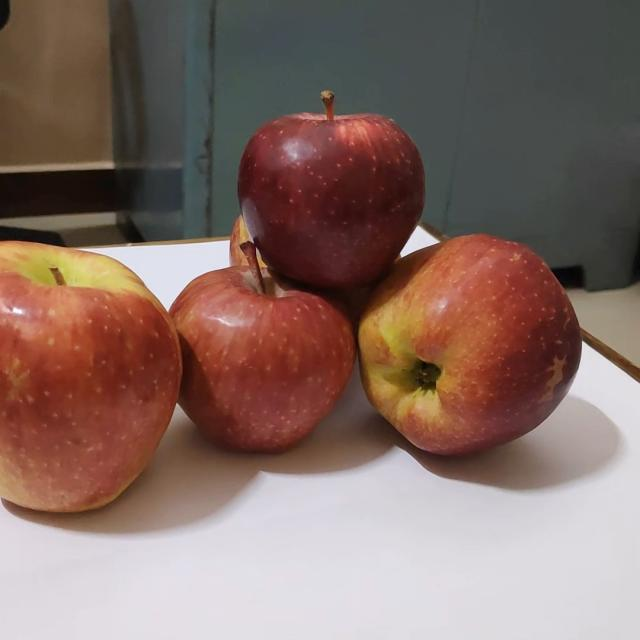apple: (349, 230, 584, 459), (0, 231, 179, 520), (230, 81, 434, 295), (167, 239, 358, 456), (228, 208, 406, 278)
